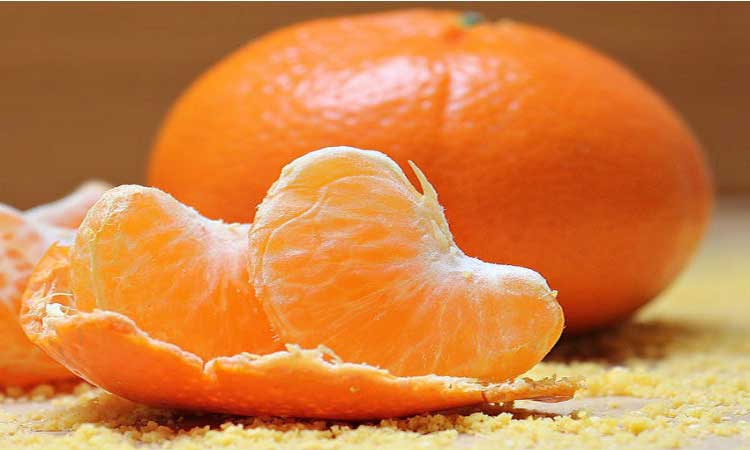orange: (180, 18, 698, 314), (80, 154, 579, 400)
